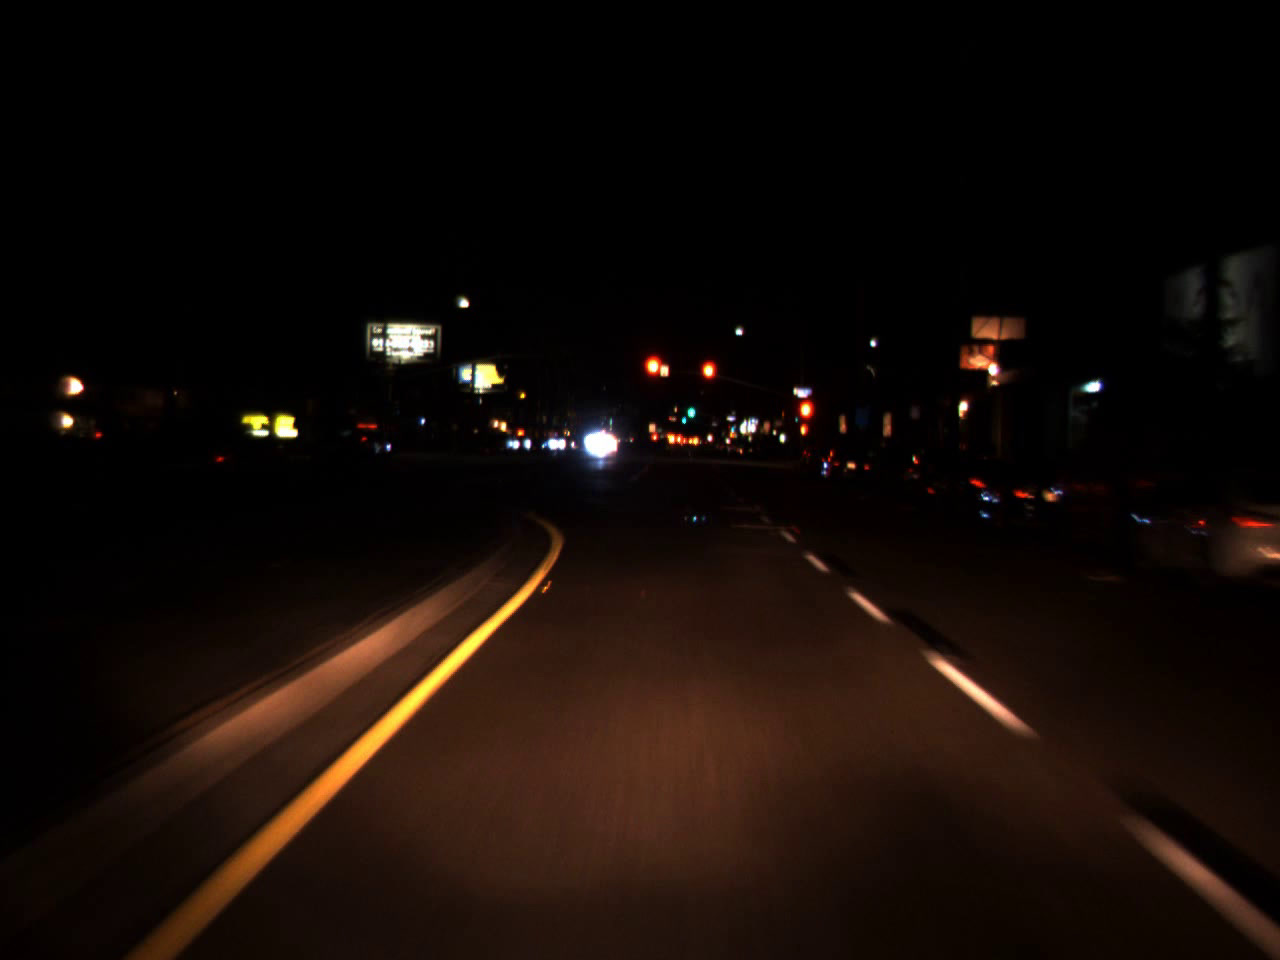go: (684, 397, 696, 421), (680, 410, 687, 425), (727, 419, 734, 434)
stop: (642, 352, 666, 397), (796, 398, 815, 441), (700, 358, 718, 401)
